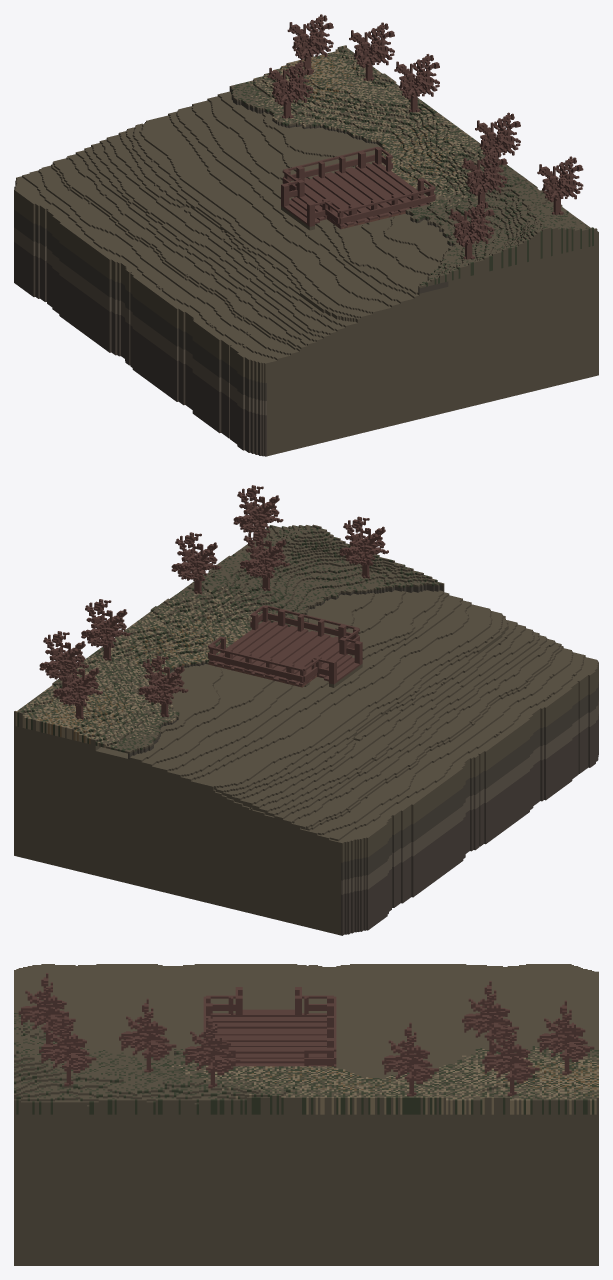
Rendered from Combined Desert(2)-11-tile 10 - above water 2.obj.
3 views of the same model, one above another, from view 1: azimuth 30°, elevation 25°; view 2: azimuth 150°, elevation 25°; view 3: azimuth 270°, elevation 25° (orthographic). The views are drawn at different scales.
Visible parts, largest first — view 1: tile 10 - above water 2; view 2: tile 10 - above water 2; view 3: tile 10 - above water 2.
Part boxes in pixels (<box>): tile 10 - above water 2: <box>14,14,598,456</box>; tile 10 - above water 2: <box>14,485,598,935</box>; tile 10 - above water 2: <box>14,964,598,1265</box>.
Bounding box in the file's own units: 20.6 × 11.3 × 25.6.
Materials: 1 (1 with a texture image).
